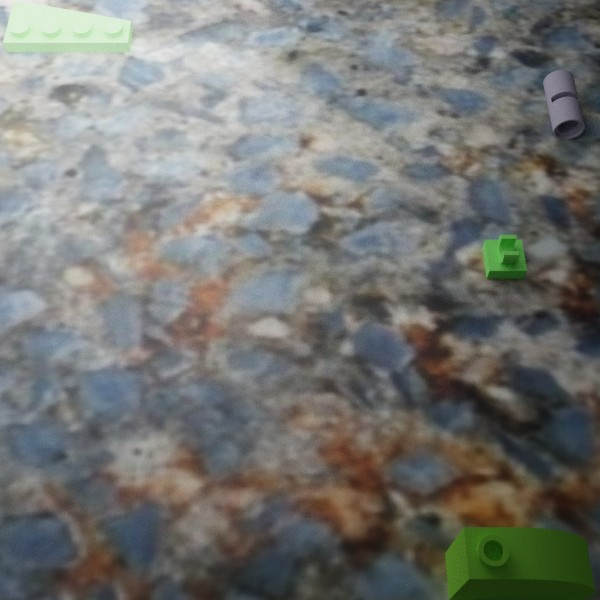lego: (445, 527, 595, 599), (3, 0, 133, 52), (543, 69, 584, 140), (482, 234, 526, 278)
